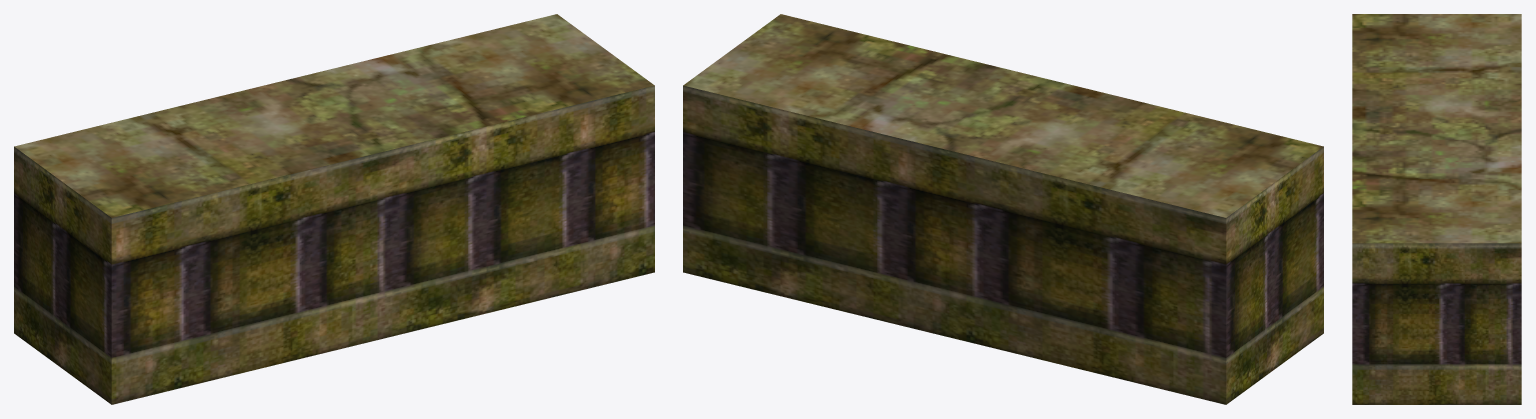
The model's file is OVERHILL_A_01_LINE206.fbx.
The picture shows the model from 3 angles, left to right: view 1: azimuth 30°, elevation 25°; view 2: azimuth 150°, elevation 25°; view 3: azimuth 270°, elevation 25°; orthographic projection. The views are drawn at different scales.
Visible parts, largest first — view 1: OVERHILL_A_01_LINE206; view 2: OVERHILL_A_01_LINE206; view 3: OVERHILL_A_01_LINE206.
Part boxes in pixels (left/top/right/bottom): OVERHILL_A_01_LINE206: left=14, top=14, right=654, bottom=404; OVERHILL_A_01_LINE206: left=683, top=14, right=1323, bottom=404; OVERHILL_A_01_LINE206: left=1352, top=14, right=1521, bottom=404.
Bounding box in the file's own units: 23912 × 7866 × 7452.
Materials: 2 (2 with a texture image).
